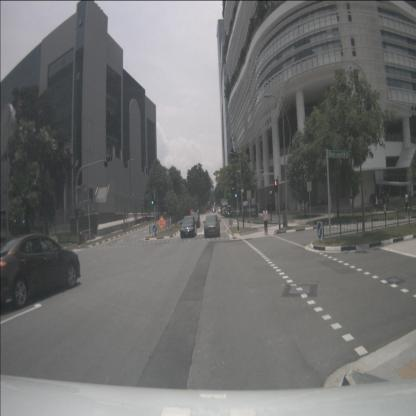human-pedestrian-adult: (263, 205, 268, 235), (374, 195, 379, 212), (408, 191, 412, 210), (386, 192, 390, 209), (382, 191, 386, 206), (405, 192, 408, 211), (349, 197, 352, 212)
vehicle-car: (0, 234, 81, 308), (180, 216, 197, 238), (204, 214, 220, 237), (190, 213, 200, 228), (224, 205, 232, 218), (218, 207, 222, 214), (212, 206, 216, 212)
vehicle-truck: (221, 198, 228, 216)
